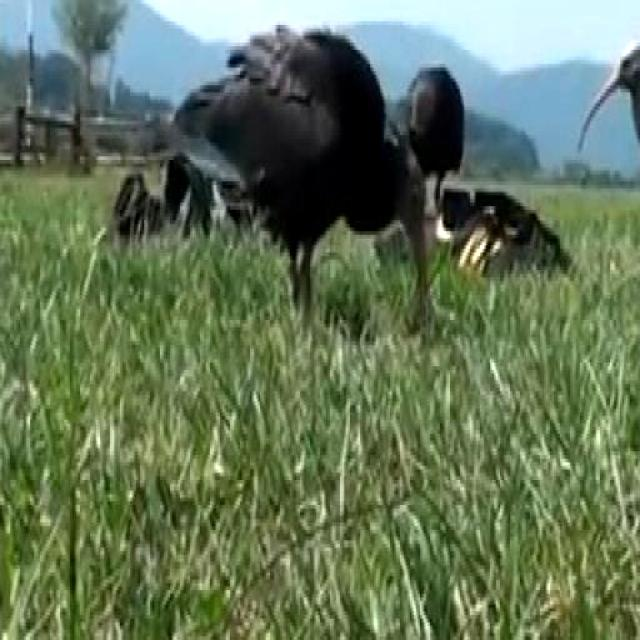airplane: (158, 4, 432, 339), (570, 15, 640, 296)
